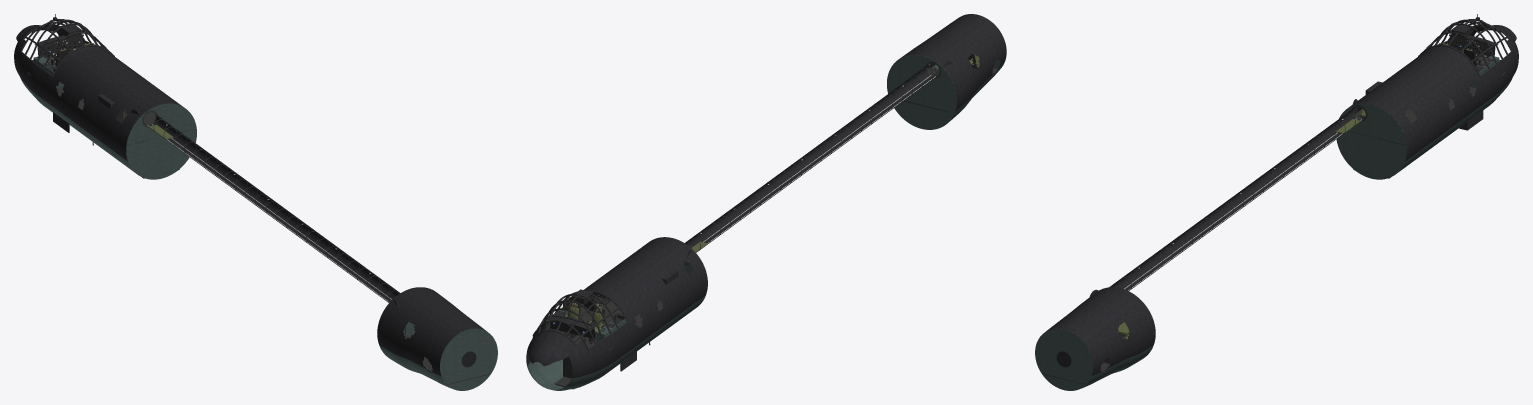
File: b36_interior.glb
The picture shows the model from 3 angles, left to right: view 1: azimuth 30°, elevation 25°; view 2: azimuth 150°, elevation 25°; view 3: azimuth 330°, elevation 25°; orthographic projection.
Visible parts, largest first — view 1: Int_Shell, Int_ShellAft, Int_Tunnel, Int_AftBulkhead, Int_AftRearBulkhead, Int_CanopyFrame, Int_Panel; view 2: Int_Shell, Int_ShellAft, Int_Tunnel, Int_AftFwdBulkhead, Int_CanopyFrame, Int_Floors, Int_Panel; view 3: Int_Shell, Int_ShellAft, Int_Tunnel, Int_AftBulkhead, Int_AftRearBulkhead, Int_CanopyFrame, Int_Panel.
Part boxes in pixels (<box>): Int_Shell: <box>14,25,182,172</box>; Int_ShellAft: <box>377,287,486,388</box>; Int_Tunnel: <box>143,112,400,302</box>; Int_AftBulkhead: <box>126,103,196,179</box>; Int_AftRearBulkhead: <box>440,328,497,390</box>; Int_CanopyFrame: <box>20,19,113,77</box>; Int_Panel: <box>34,34,83,57</box>; Int_Shell: <box>526,237,707,390</box>; Int_ShellAft: <box>887,14,1006,129</box>; Int_Tunnel: <box>685,65,936,250</box>; Int_AftFwdBulkhead: <box>887,55,956,129</box>; Int_CanopyFrame: <box>532,290,628,349</box>; Int_Floors: <box>544,274,688,389</box>; Int_Panel: <box>547,315,595,339</box>; Int_Shell: <box>1350,25,1518,172</box>; Int_ShellAft: <box>1046,287,1155,388</box>; Int_Tunnel: <box>1109,106,1365,290</box>; Int_AftBulkhead: <box>1336,103,1406,179</box>; Int_AftRearBulkhead: <box>1035,328,1092,390</box>; Int_CanopyFrame: <box>1419,19,1512,77</box>; Int_Panel: <box>1449,34,1498,57</box>.
Size of the model in its own units: 3.62 by 4.23 by 39.2.
30 materials, 17 textured.
